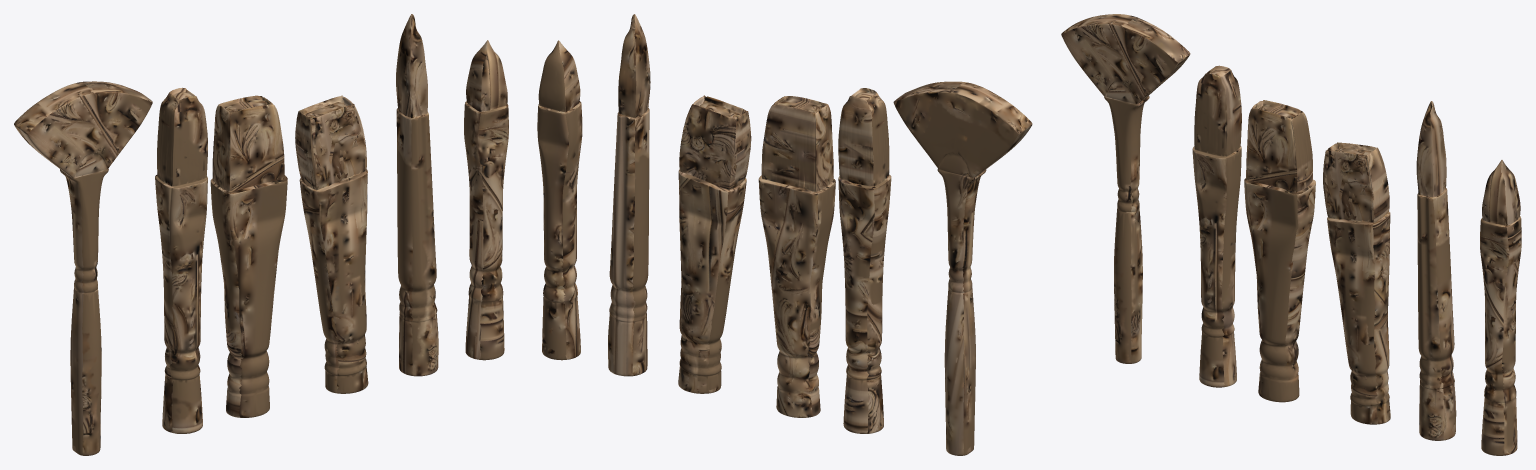
File: brushes2.fbx
The picture shows the model from 3 angles, left to right: view 1: azimuth 30°, elevation 25°; view 2: azimuth 150°, elevation 25°; view 3: azimuth 330°, elevation 25°; orthographic projection. The views are drawn at different scales.
Parts seen in each view (by area): view 1: brushes; view 2: brushes; view 3: brushes.
Part boxes in pixels (x1,y1,x2,y2): brushes: (14, 14, 508, 455); brushes: (537, 14, 1032, 455); brushes: (1061, 14, 1521, 455).
Size of the model in its own units: 489 by 351 by 38.2.
